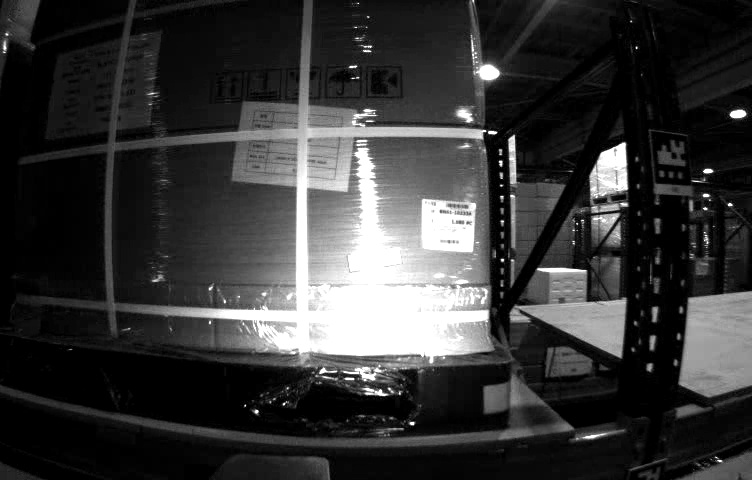True Barcode: (416, 197, 477, 252)
